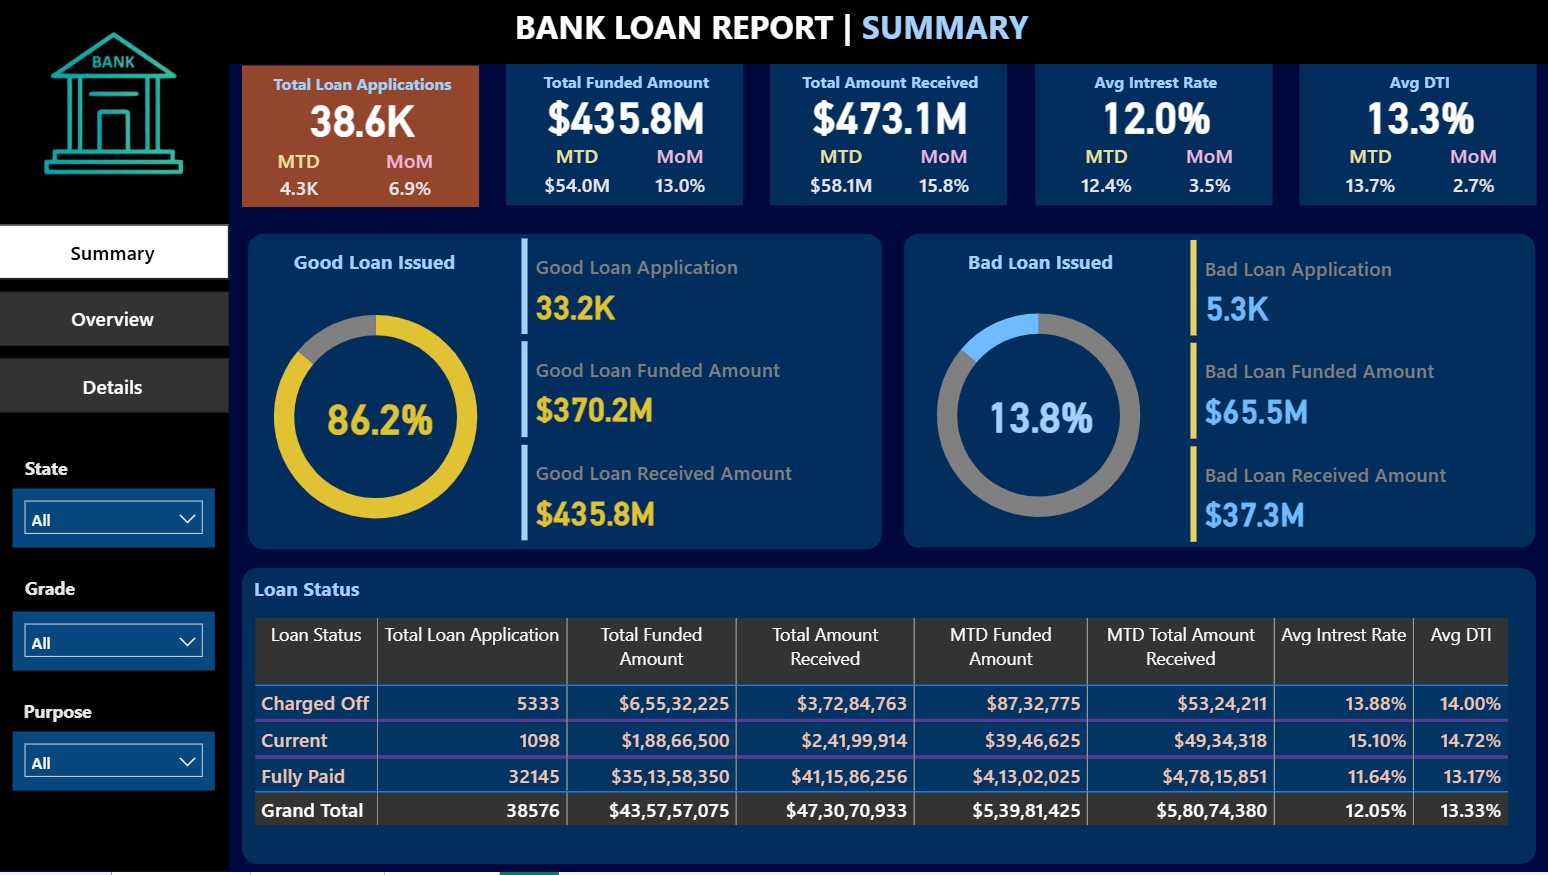

What the dashboard file says about the page in this screenshot:
{"tool":"powerbi","page":{"name":"Summary","canvas":[1280,720],"ordinal":0},"visuals":[{"type":"shape","box":[0,0,1279.5,54.5],"z":0},{"type":"shape","box":[0,54.5,192.3,664.7],"z":1000},{"type":"textbox","box":[422.5,0,436.1,57.5],"z":2000},{"type":"shape","box":[420.6,54.5,195.3,116.6],"z":3000,"group":"g2"},{"type":"shape","box":[638.2,54.5,195.3,116.6],"z":3000,"group":"g3"},{"type":"shape","box":[855.9,54.5,195.3,116.6],"z":3000,"group":"g4"},{"type":"shape","box":[1073.6,54.5,195.3,116.6],"z":3000,"group":"g5"},{"type":"shape","box":[202.9,56,195.3,116.6],"z":3000,"group":"g1"},{"type":"shape","box":[207.4,193.8,522.4,260.4],"z":3000},{"type":"card","fields":{"Values":["bank_loan_tb.Total Funded Amount"]},"box":[446.6,55.2,145.4,80.3],"z":4000,"group":"g2"},{"type":"card","fields":{"Values":["bank_loan_tb.Total Amount Received"]},"box":[664.2,55.2,145.4,80.3],"z":4000,"group":"g3"},{"type":"card","fields":{"Values":["bank_loan_tb.Avg Intrest Rate"]},"box":[881.9,55.2,145.4,80.3],"z":4000,"group":"g4"},{"type":"card","fields":{"Values":["bank_loan_tb.Avg DTI"]},"box":[1099.6,55.2,145.4,80.3],"z":4000,"group":"g5"},{"type":"group","id":"g1","title":"Group 1","box":[202.9,56,198.4,116.6],"z":4000},{"type":"card","fields":{"Values":["bank_loan_tb.Bank Loan Application"]},"box":[236.2,60.5,130.2,75.7],"z":4000,"group":"g1"},{"type":"group","id":"g2","title":"Group 1","box":[420.6,54.5,198.4,116.6],"z":5000},{"type":"textbox","box":[420.6,54.5,198.4,28.8],"z":5000,"group":"g2"},{"type":"textbox","box":[638.2,54.5,198.4,28.8],"z":5000,"group":"g3"},{"type":"textbox","box":[855.9,54.5,198.4,28.8],"z":5000,"group":"g4"},{"type":"textbox","box":[1073.6,54.5,198.4,28.8],"z":5000,"group":"g5"},{"type":"textbox","box":[202.9,56,198.4,28.8],"z":5000,"group":"g1"},{"type":"card","title":"MTD","fields":{"Values":["bank_loan_tb.MTD Funded Amount"]},"box":[446.6,118.8,65.1,53],"z":6000,"group":"g2"},{"type":"card","title":"MTD","fields":{"Values":["bank_loan_tb.MTD Total Amount Received"]},"box":[664.2,118.8,65.1,53],"z":6000,"group":"g3"},{"type":"card","title":"MTD","fields":{"Values":["bank_loan_tb.MTD Avg Intrest Rate"]},"box":[881.9,118.8,65.1,53],"z":6000,"group":"g4"},{"type":"card","title":"MTD","fields":{"Values":["bank_loan_tb.MTD Avg DTI Rate"]},"box":[1099.6,118.8,65.1,53],"z":6000,"group":"g5"},{"type":"card","title":"MTD","fields":{"Values":["bank_loan_tb.MTD Loan Application"]},"box":[224.1,122.6,51.5,50],"z":6000,"group":"g1"},{"type":"card","fields":{"Values":["bank_loan_tb.Good Loan Percentage"]},"box":[252.9,304.4,125.7,80.3],"z":6000},{"type":"group","id":"g3","title":"Group 1","box":[638.2,54.5,198.4,116.6],"z":7000},{"type":"card","title":"MoM","fields":{"Values":["bank_loan_tb.MoM Funded Amount"]},"box":[532.9,118.8,62.1,53],"z":7000,"group":"g2"},{"type":"card","title":"MoM","fields":{"Values":["bank_loan_tb.MoM Total Amount Received"]},"box":[750.5,118.8,62.1,53],"z":7000,"group":"g3"},{"type":"card","title":"MoM","fields":{"Values":["bank_loan_tb.MoM Intrest Rate"]},"box":[968.2,118.8,62.1,53],"z":7000,"group":"g4"},{"type":"card","title":"MoM","fields":{"Values":["bank_loan_tb.MoM Avg DTI Rate"]},"box":[1185.9,118.8,62.1,53],"z":7000,"group":"g5"},{"type":"card","title":"MoM","fields":{"Values":["bank_loan_tb.MoM Loan Application"]},"box":[315,122.6,51.5,50],"z":7000,"group":"g1"},{"type":"group","id":"g4","title":"Group 1","box":[855.9,54.5,198.4,116.6],"z":8000},{"type":"donutChart","fields":{"Category":["bank_loan_tb.Good vs Bad Loans"],"Y":["bank_loan_tb.Total Loan Application"]},"box":[192.3,234.7,239.2,219.6],"z":9000},{"type":"group","id":"g5","title":"Group 1","box":[1073.6,54.5,198.4,116.6],"z":10000},{"type":"shape","box":[748,193.8,520.9,258.9],"z":11000},{"type":"textbox","box":[207.4,199.9,209,33.3],"z":12000},{"type":"cardVisual","fields":{"Data":["bank_loan_tb.Good Loan Application","bank_loan_tb.Good Loan Funded Amount","bank_loan_tb.Good Loan Received Amount"]},"box":[427,192.3,298.3,260.4],"z":13000},{"type":"donutChart","fields":{"Category":["bank_loan_tb.Good vs Bad Loans"],"Y":["bank_loan_tb.Total Loan Application"]},"box":[738.9,233.2,239.2,219.6],"z":14000},{"type":"card","fields":{"Values":["bank_loan_tb.Bad Loan Percentage"]},"box":[796.5,302.8,125.7,80.3],"z":15000},{"type":"textbox","box":[787.4,199.9,146.9,36.3],"z":16000},{"type":"shape","box":[202.9,469.4,1066,243.8],"z":17000},{"type":"cardVisual","fields":{"Data":["bank_loan_tb.Bad Loan Application","bank_loan_tb.Bad Loan Funded Amount","bank_loan_tb.Bad Loan Received Amount"]},"box":[978.2,193.8,298.3,260.4],"z":18000},{"type":"tableEx","fields":{"Values":["bank_loan_tb.loan_status","bank_loan_tb.Total Loan Application","bank_loan_tb.Total Funded Amount","bank_loan_tb.Total Amount Received","bank_loan_tb.MTD Funded Amount","bank_loan_tb.MTD Total Amount Received","bank_loan_tb.Avg Intrest Rate","bank_loan_tb.Avg DTI"]},"box":[207.4,505.7,1061.5,196.8],"z":19000},{"type":"textbox","box":[207.4,469.4,109,36.3],"z":20000},{"type":"slicer","fields":{"Values":["bank_loan_tb.address_state"]},"box":[13.6,404.3,166.6,48.5],"z":21000},{"type":"textbox","box":[15.1,372.5,98.4,31.8],"z":22000},{"type":"slicer","fields":{"Values":["bank_loan_tb.grade"]},"box":[13.6,505.7,166.6,48.5],"z":23000},{"type":"textbox","box":[15.1,470.9,98.4,31.8],"z":24000},{"type":"slicer","fields":{"Values":["bank_loan_tb.purpose"]},"box":[13.6,604.2,166.6,48.5],"z":25000},{"type":"textbox","box":[13.6,572.4,98.4,31.8],"z":26000},{"type":"image","box":[13.6,3,166.6,168.1],"z":27000},{"type":"pageNavigator","box":[0,186.2,192.3,157.5],"z":28000}]}

Visuals, with their boxes in screenshot pixels (x1, y1, x2, y2), scaled from the page's 1280x720 canvas onto the 1548x875 screenshot:
shape: crop(0, 0, 1547, 66)
shape: crop(0, 66, 233, 874)
textbox: crop(511, 0, 1038, 70)
shape: crop(509, 66, 745, 208)
shape: crop(772, 66, 1008, 208)
shape: crop(1035, 66, 1271, 208)
shape: crop(1298, 66, 1535, 208)
shape: crop(245, 68, 482, 210)
shape: crop(251, 236, 883, 552)
card - bank_loan_tb.Total Funded Amount: crop(540, 67, 716, 165)
card - bank_loan_tb.Total Amount Received: crop(803, 67, 979, 165)
card - bank_loan_tb.Avg Intrest Rate: crop(1067, 67, 1242, 165)
card - bank_loan_tb.Avg DTI: crop(1330, 67, 1506, 165)
"Group 1" group: crop(245, 68, 485, 210)
card - bank_loan_tb.Bank Loan Application: crop(286, 74, 443, 166)
"Group 1" group: crop(509, 66, 749, 208)
textbox: crop(509, 66, 749, 101)
textbox: crop(772, 66, 1012, 101)
textbox: crop(1035, 66, 1275, 101)
textbox: crop(1298, 66, 1538, 101)
textbox: crop(245, 68, 485, 103)
"MTD" card: crop(540, 144, 619, 209)
"MTD" card: crop(803, 144, 882, 209)
"MTD" card: crop(1067, 144, 1145, 209)
"MTD" card: crop(1330, 144, 1409, 209)
"MTD" card: crop(271, 149, 333, 210)
card - bank_loan_tb.Good Loan Percentage: crop(306, 370, 458, 468)
"Group 1" group: crop(772, 66, 1012, 208)
"MoM" card: crop(644, 144, 720, 209)
"MoM" card: crop(908, 144, 983, 209)
"MoM" card: crop(1171, 144, 1246, 209)
"MoM" card: crop(1434, 144, 1509, 209)
"MoM" card: crop(381, 149, 443, 210)
"Group 1" group: crop(1035, 66, 1275, 208)
donutChart - bank_loan_tb.Good vs Bad Loans x bank_loan_tb.Total Loan Application: crop(233, 285, 522, 552)
"Group 1" group: crop(1298, 66, 1538, 208)
shape: crop(905, 236, 1535, 550)
textbox: crop(251, 243, 504, 283)
cardVisual - bank_loan_tb.Good Loan Application x bank_loan_tb.Good Loan Funded Amount: crop(516, 234, 877, 550)
donutChart - bank_loan_tb.Good vs Bad Loans x bank_loan_tb.Total Loan Application: crop(894, 283, 1183, 550)
card - bank_loan_tb.Bad Loan Percentage: crop(963, 368, 1115, 466)
textbox: crop(952, 243, 1130, 287)
shape: crop(245, 570, 1535, 867)
cardVisual - bank_loan_tb.Bad Loan Application x bank_loan_tb.Bad Loan Funded Amount: crop(1183, 236, 1544, 552)
tableEx - bank_loan_tb.loan_status x bank_loan_tb.Total Loan Application: crop(251, 615, 1535, 854)
textbox: crop(251, 570, 383, 615)
slicer - bank_loan_tb.address_state: crop(16, 491, 218, 550)
textbox: crop(18, 453, 137, 491)
slicer - bank_loan_tb.grade: crop(16, 615, 218, 674)
textbox: crop(18, 572, 137, 611)
slicer - bank_loan_tb.purpose: crop(16, 734, 218, 793)
textbox: crop(16, 696, 135, 734)
image: crop(16, 4, 218, 208)
pageNavigator: crop(0, 226, 233, 418)
